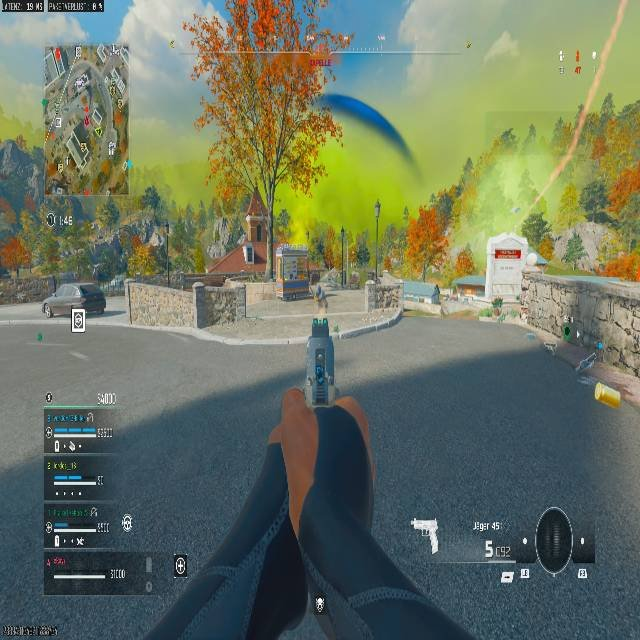player: (315, 284, 328, 313), (491, 295, 503, 322)
